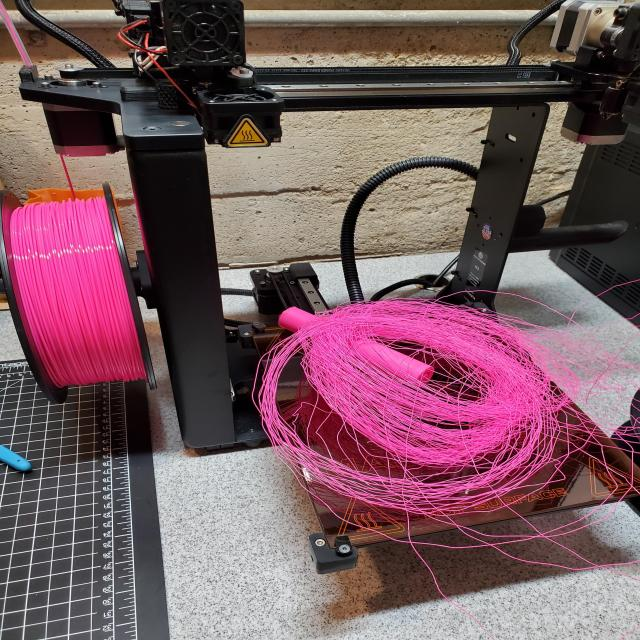Spaghetti: (264, 297, 640, 550)
